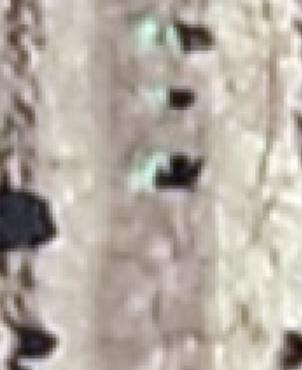cotton: (135, 18, 158, 46), (134, 163, 154, 190), (149, 149, 168, 169), (163, 29, 180, 50), (153, 86, 168, 104)
